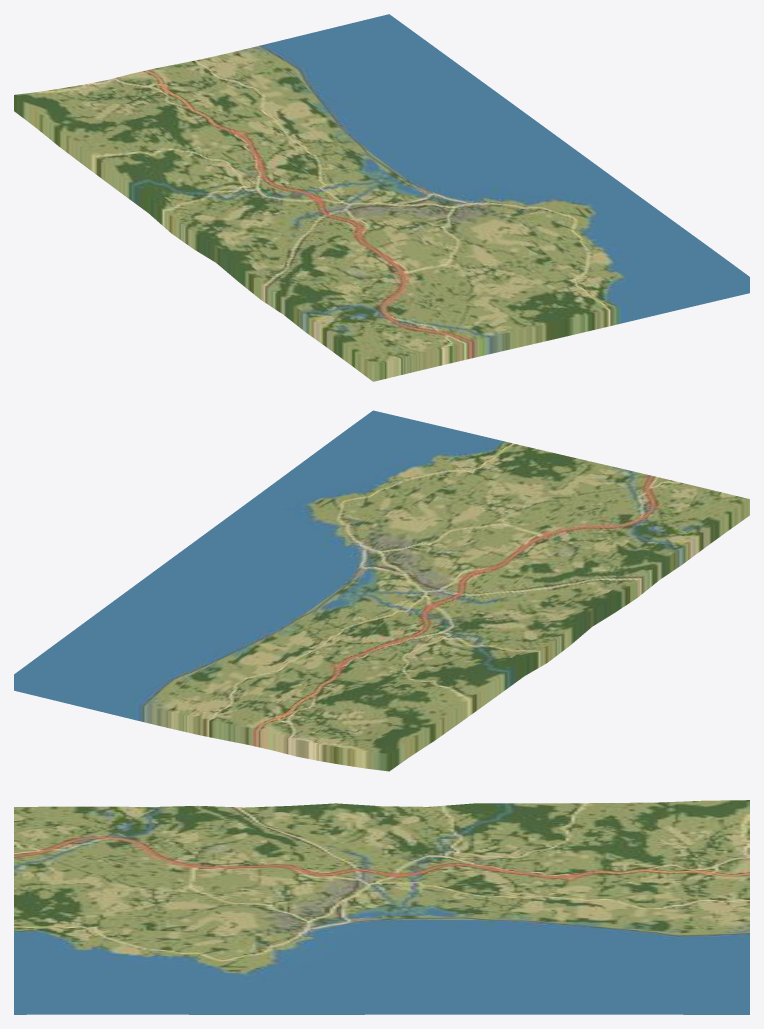
The picture shows the model from 3 angles, top to bottom: view 1: azimuth 30°, elevation 25°; view 2: azimuth 150°, elevation 25°; view 3: azimuth 270°, elevation 25°; orthographic projection. The views are drawn at different scales.
Size of the model in its own units: 11826 by 807 by 19566.
1 material, 1 textured.
